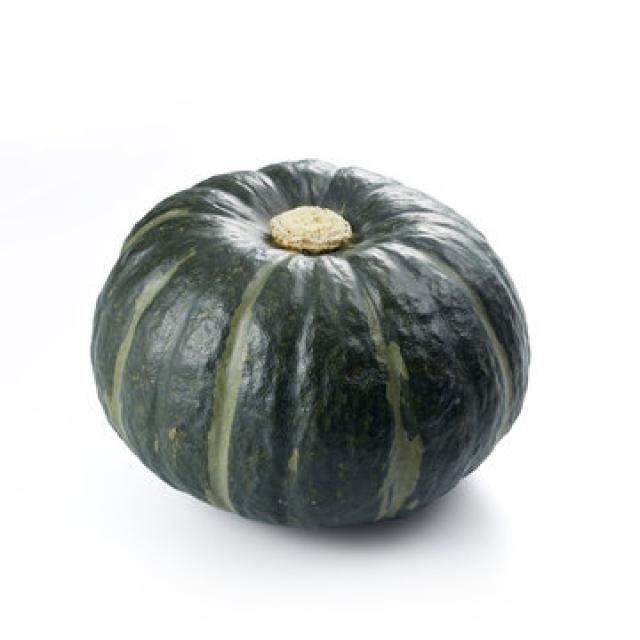Pumpkin: (93, 163, 536, 538)
